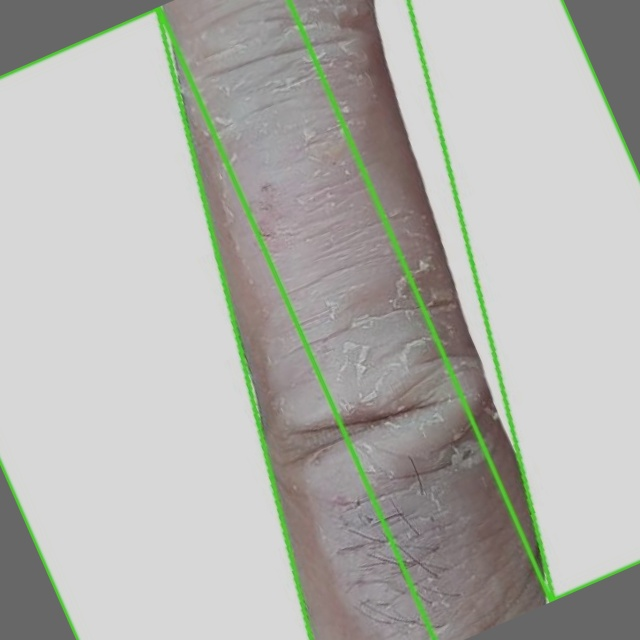Eczema: (0, 7, 434, 639), (162, 0, 548, 639), (289, 0, 639, 601)
